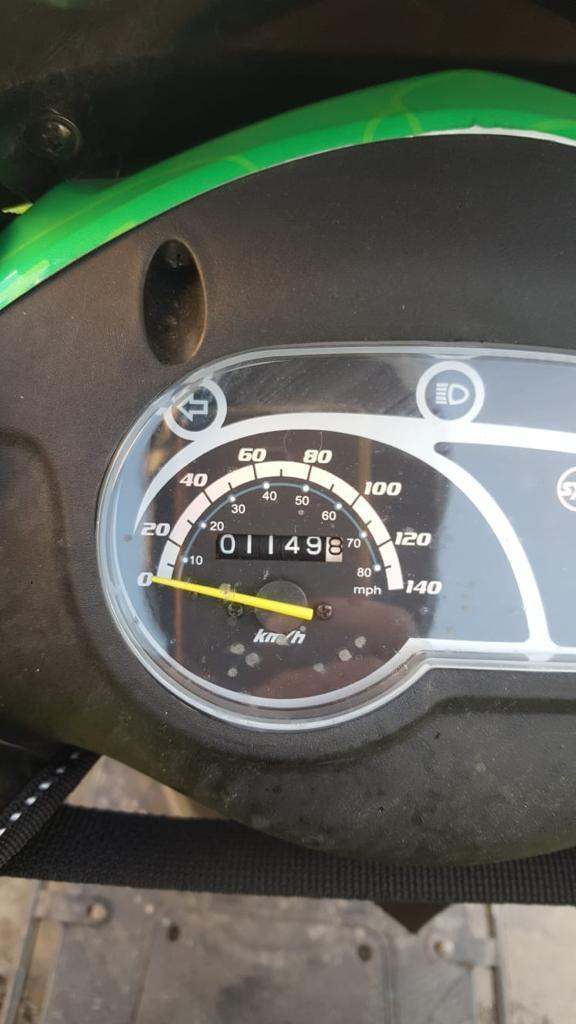0: (218, 533, 235, 554)
1: (264, 534, 276, 556), (243, 534, 254, 555)
4: (282, 535, 301, 555)
8: (327, 536, 343, 555)
9: (304, 535, 323, 555)
odometer: (212, 530, 347, 565)
